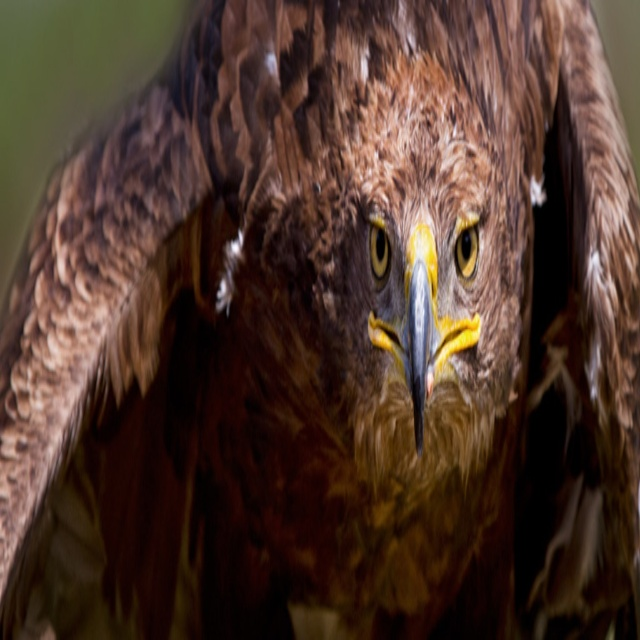Eagle: (0, 0, 639, 638)
